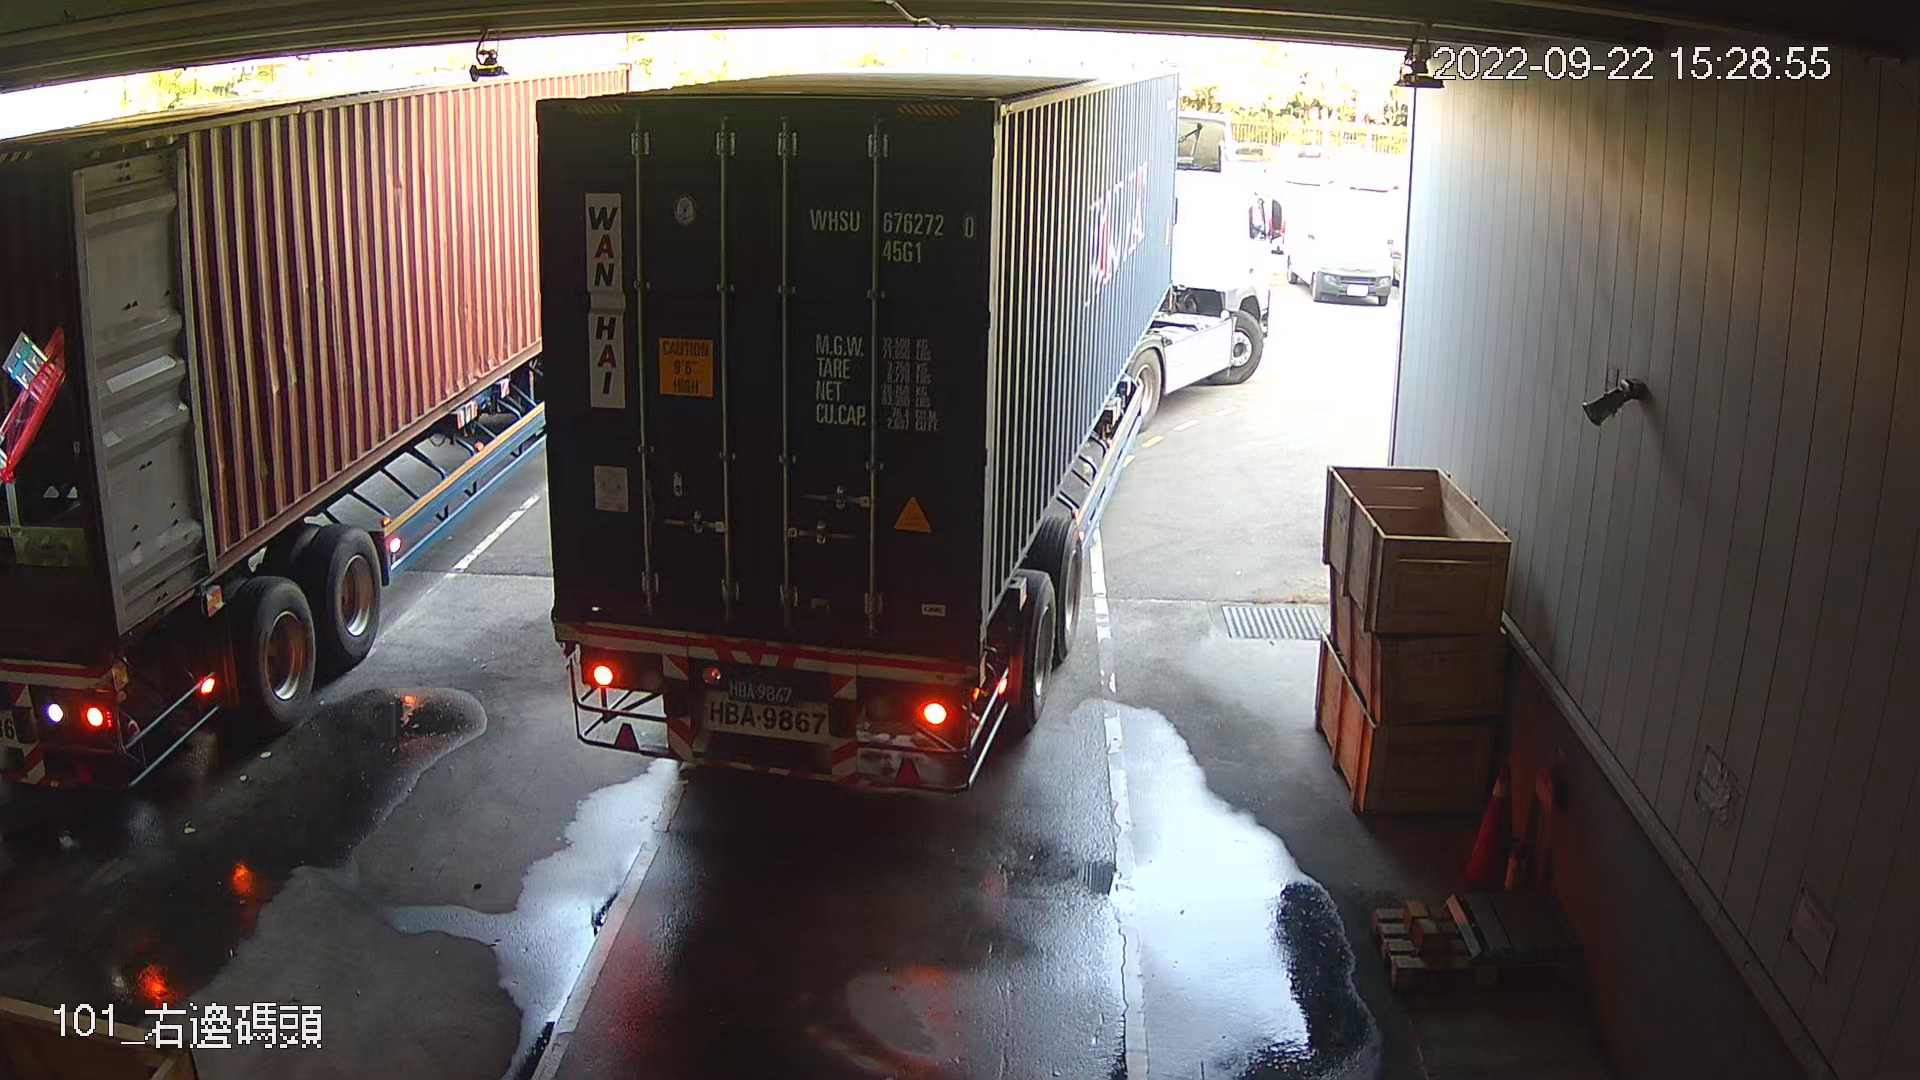container: (795, 194, 984, 272)
